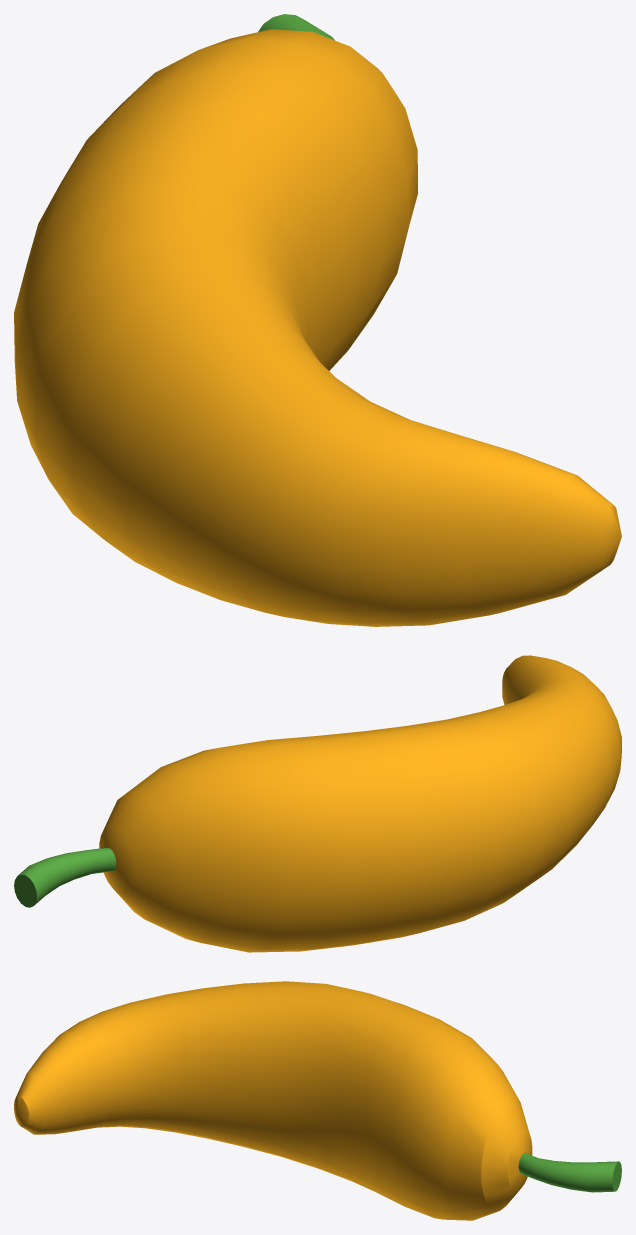
File: Pepper Yellow.fbx
3 views of the same model, one above another, from view 1: azimuth 30°, elevation 25°; view 2: azimuth 150°, elevation 25°; view 3: azimuth 270°, elevation 25° (orthographic). The views are drawn at different scales.
Parts seen in each view (by area): view 1: Pepper Yellow; view 2: Pepper Yellow; view 3: Pepper Yellow.
Part boxes in pixels (bbox=[...]): Pepper Yellow: bbox=[14, 14, 621, 626]; Pepper Yellow: bbox=[14, 655, 621, 952]; Pepper Yellow: bbox=[14, 981, 621, 1220].
Bounding box in the file's own units: 0.385 × 0.2118 × 0.6578.
